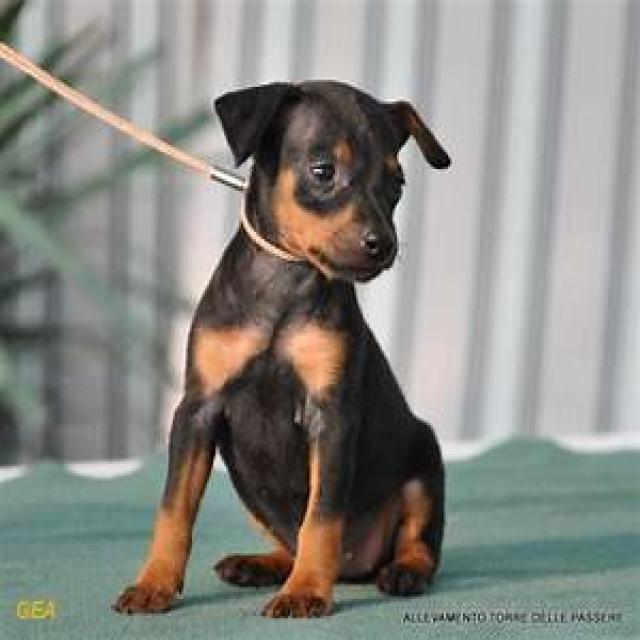dog: (111, 44, 471, 622)
